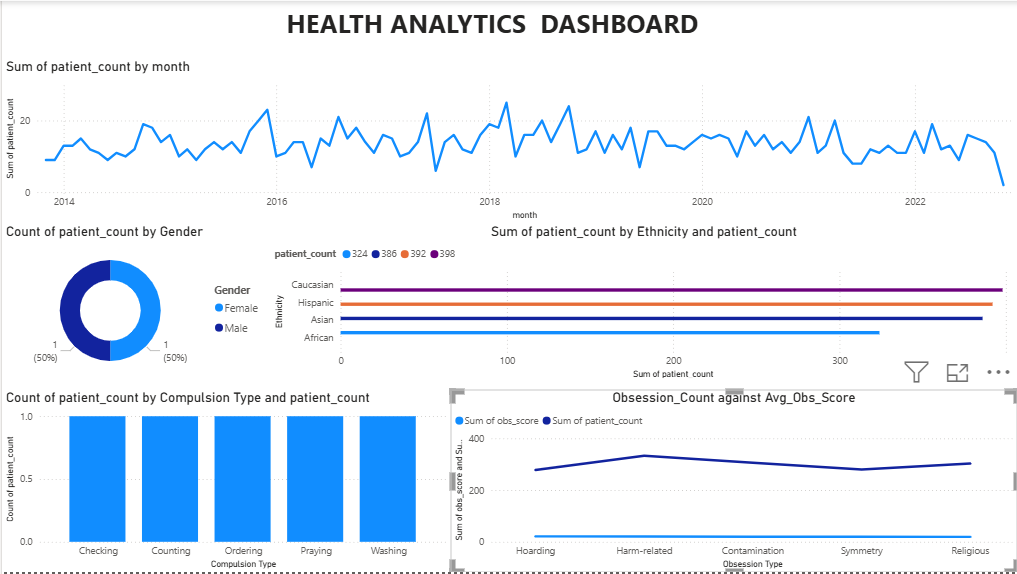

The page's visual inventory and layout, read from the dashboard file:
{"tool":"powerbi","page":{"name":"Page 1","canvas":[1280,720],"ordinal":0},"visuals":[{"type":"textbox","box":[353.4,0,750.2,58.6],"z":0},{"type":"lineChart","fields":{"Y":["Sum(diagnosis mom.patient_count)"],"Category":["diagnosis mom.month"]},"box":[0,71.8,1279.4,207.9],"z":1000},{"type":"donutChart","fields":{"Category":["gender.Gender"],"Y":["CountNonNull(gender.patient_count)"]},"box":[0,279.7,338.3,200.3],"z":2000},{"type":"clusteredBarChart","fields":{"Category":["ethnicity.Ethnicity"],"Series":["ethnicity.patient_count"],"Y":["Sum(ethnicity.patient_count)"]},"box":[338.3,279.7,941.1,200.3],"z":3000},{"type":"columnChart","fields":{"Category":["comp_type.Compulsion Type"],"Series":["comp_type.patient_count"],"Y":["CountNonNull(comp_type.patient_count)"]},"box":[0,489.5,565,230.6],"z":3001},{"type":"lineChart","title":"Obsession_Count against Avg_Obs_Score","fields":{"Category":["obs_type.Obsession Type"],"Y":["Sum(obs_type.obs_score)","Sum(obs_type.patient_count)"]},"box":[565,489.5,714.3,230.6],"z":3002}]}

Visuals, with their boxes in screenshot pixels (x1, y1, x2, y2), scaled from the page's 1280x720 canvas onto the 1017x574 screenshot:
textbox: [x1=281, y1=0, x2=877, y2=47]
lineChart - Sum(diagnosis mom.patient_count) x diagnosis mom.month: [x1=0, y1=57, x2=1016, y2=223]
donutChart - gender.Gender x CountNonNull(gender.patient_count): [x1=0, y1=223, x2=269, y2=383]
clusteredBarChart - ethnicity.Ethnicity x ethnicity.patient_count: [x1=269, y1=223, x2=1016, y2=383]
columnChart - comp_type.Compulsion Type x comp_type.patient_count: [x1=0, y1=390, x2=449, y2=573]
"Obsession_Count against Avg_Obs_Score" lineChart: [x1=449, y1=390, x2=1016, y2=573]
